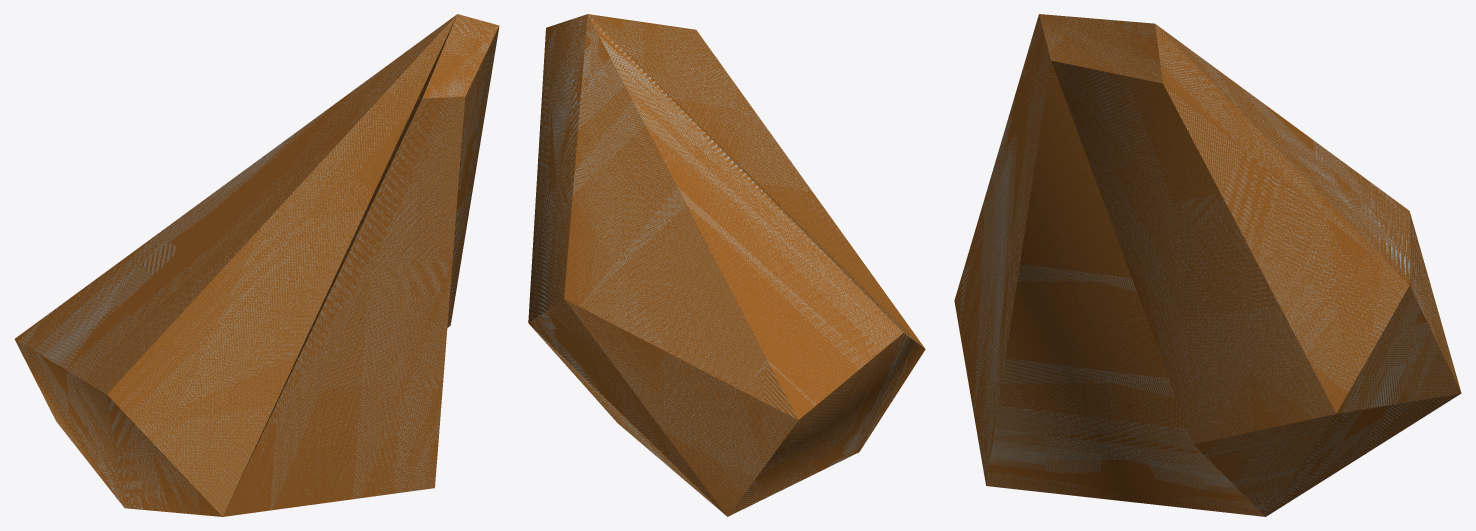
Rendered from Rock_Medium_Sharp_Dirt_01.fbx.
3 renders of one model, left to right at view 1: azimuth 30°, elevation 25°; view 2: azimuth 150°, elevation 25°; view 3: azimuth 270°, elevation 25°, orthographic. The views are drawn at different scales.
Parts seen in each view (by area): view 1: Model; view 2: Model; view 3: Model.
Part boxes in pixels (<box>): Model: <box>14,14,499,516</box>; Model: <box>528,14,925,516</box>; Model: <box>954,14,1461,516</box>.
Size of the model in its own units: 238 by 241 by 203.
